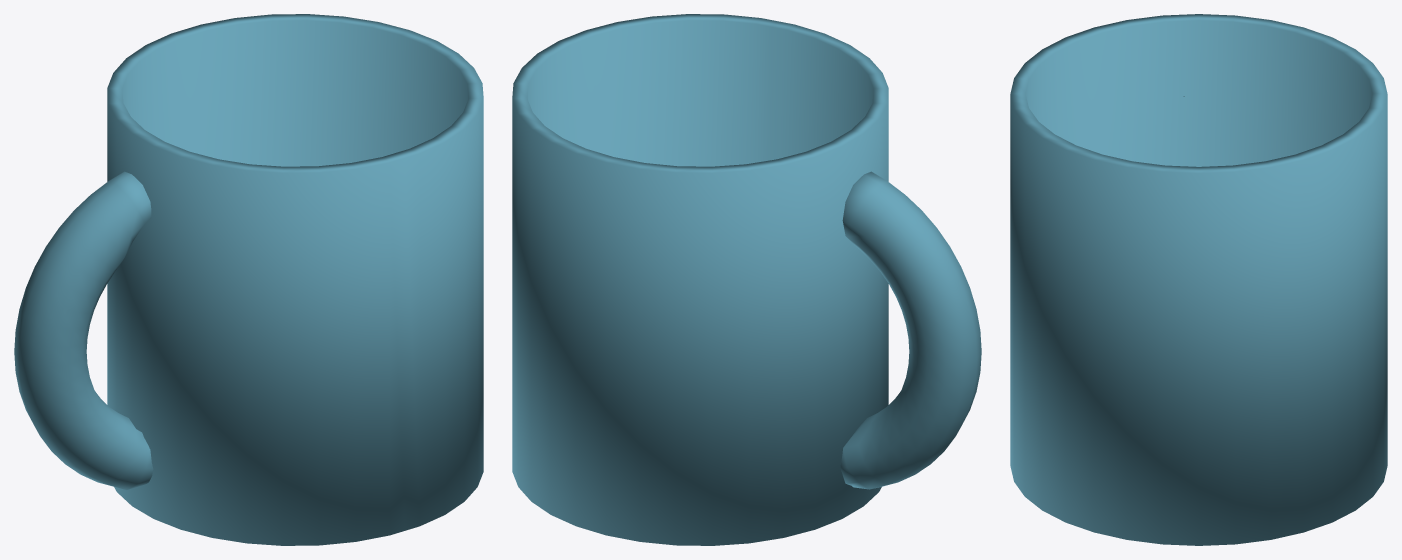
Rendered from Coffee Mug.fbx.
3 renders of one model, left to right at view 1: azimuth 30°, elevation 25°; view 2: azimuth 150°, elevation 25°; view 3: azimuth 270°, elevation 25°, orthographic.
Visible parts, largest first — view 1: Cylinder; view 2: Cylinder; view 3: Cylinder.
Boxes of the visible parts, x1,y1,x2,y2 form: Cylinder: [14, 14, 483, 545]; Cylinder: [512, 14, 981, 545]; Cylinder: [1010, 14, 1387, 545].
Size of the model in its own units: 269 by 218 by 200.
